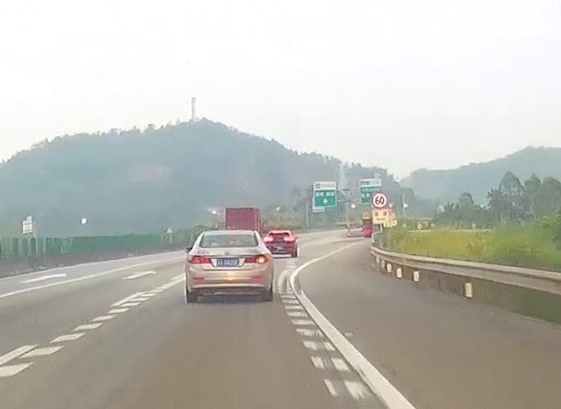L_light: (186, 254, 212, 264)
R_light: (244, 254, 271, 264)
T_light: (222, 246, 238, 248)
day-right: (184, 230, 274, 303)
